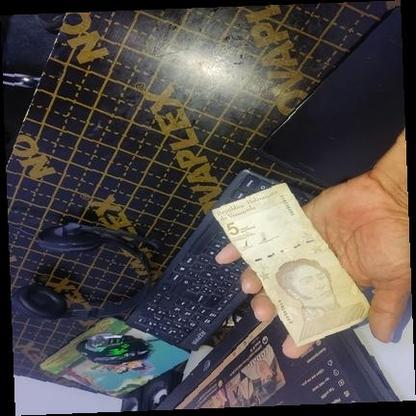five-front-vef: (210, 181, 372, 346)
